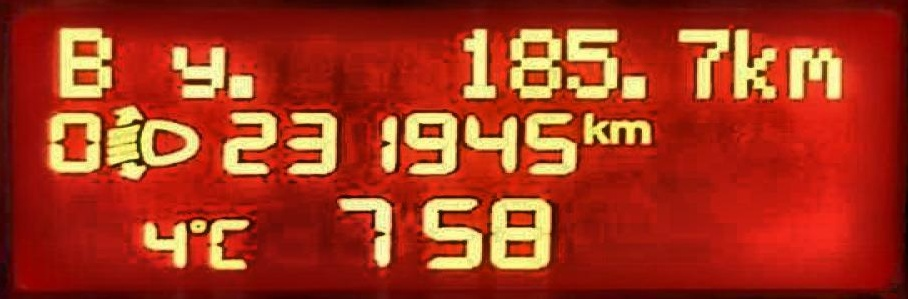-: (617, 73, 648, 100), (223, 73, 255, 99)
0: (42, 110, 102, 173)
1: (453, 24, 498, 99), (377, 111, 398, 174)
2: (220, 110, 276, 175)
3: (283, 109, 337, 175)
4: (460, 113, 516, 174), (137, 219, 188, 270)
5: (415, 195, 483, 271), (563, 25, 620, 100), (520, 110, 576, 175)
7: (330, 195, 393, 268), (673, 25, 730, 101)
8: (485, 195, 553, 270), (505, 26, 561, 100)
9: (402, 109, 458, 175)
X: (52, 24, 113, 99), (728, 26, 780, 100), (783, 45, 843, 101), (168, 43, 227, 99), (203, 216, 250, 270), (608, 116, 652, 145), (580, 110, 608, 145)
